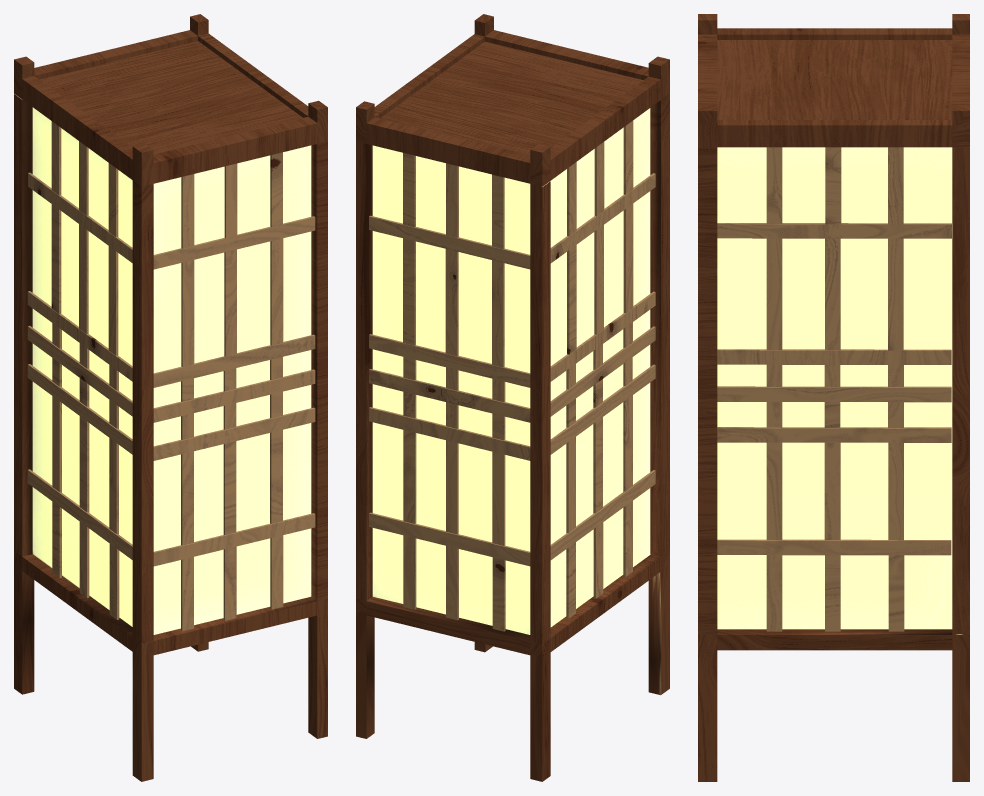
The model's file is indoor_japanese_lantern.gltf.
The picture shows the model from 3 angles, left to right: view 1: azimuth 30°, elevation 25°; view 2: azimuth 150°, elevation 25°; view 3: azimuth 270°, elevation 25°; orthographic projection. The views are drawn at different scales.
Visible parts, largest first — view 1: pCube15, pCube32, pCube30; view 2: pCube15, pCube31, pCube30; view 3: pCube15, pCube29.
Boxes of the visible parts, bbox=[...] form: pCube15: bbox=[14, 14, 327, 781]; pCube32: bbox=[153, 152, 315, 631]; pCube30: bbox=[27, 121, 132, 619]; pCube15: bbox=[356, 14, 669, 781]; pCube31: bbox=[369, 153, 530, 631]; pCube30: bbox=[550, 120, 655, 618]; pCube15: bbox=[698, 14, 969, 781]; pCube29: bbox=[717, 147, 951, 631].
Bounding box in the file's own units: 2.65 × 8.56 × 3.14.
Materials: 1 (1 with a texture image).
